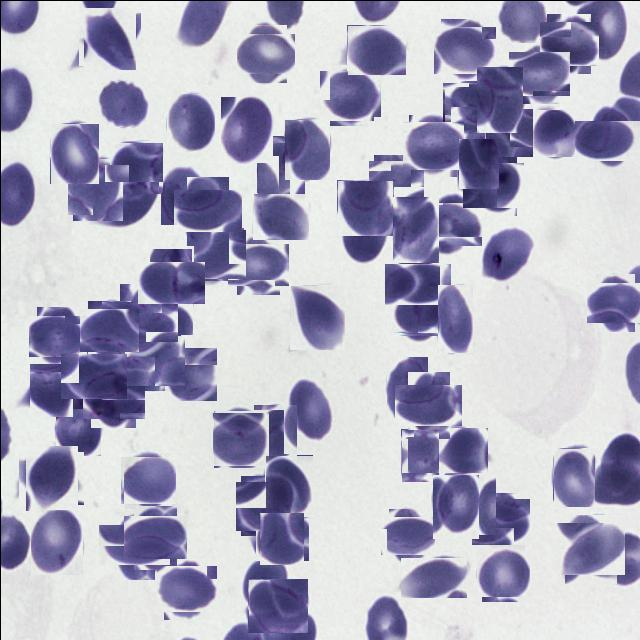red blood cell: (560, 518, 620, 578), (289, 284, 344, 349), (21, 448, 80, 507), (220, 96, 272, 162), (30, 510, 82, 576), (110, 292, 168, 351), (446, 76, 504, 134), (80, 10, 138, 67), (247, 578, 307, 632), (322, 66, 378, 122), (106, 516, 162, 572), (179, 182, 235, 238), (126, 332, 182, 388), (65, 347, 121, 403), (69, 161, 125, 217), (142, 254, 198, 310), (336, 179, 392, 235), (475, 544, 529, 602), (392, 196, 438, 262), (476, 66, 522, 132), (212, 411, 267, 466), (436, 22, 492, 76), (256, 135, 304, 198), (404, 118, 460, 172), (49, 122, 98, 183), (389, 256, 444, 310), (92, 181, 158, 226), (346, 24, 405, 74), (432, 474, 478, 538), (238, 478, 292, 532), (580, 113, 634, 167), (401, 378, 455, 432), (86, 368, 140, 422), (466, 158, 520, 212), (288, 380, 334, 443), (159, 562, 213, 615), (128, 511, 182, 564), (163, 347, 216, 400), (512, 46, 565, 99), (283, 118, 329, 179), (264, 454, 312, 512), (424, 197, 476, 250), (160, 167, 208, 224), (166, 93, 214, 150), (386, 356, 427, 422), (232, 238, 284, 290), (542, 17, 594, 69), (122, 454, 174, 506), (474, 495, 526, 547), (110, 140, 162, 192), (82, 304, 134, 356), (400, 557, 466, 597), (252, 192, 308, 239), (193, 228, 244, 279), (32, 310, 82, 360), (370, 156, 420, 206), (552, 447, 594, 506), (55, 400, 100, 455), (252, 403, 296, 459), (394, 290, 444, 339), (241, 28, 290, 78), (26, 366, 76, 414), (96, 80, 148, 126), (437, 284, 472, 352), (257, 514, 306, 562), (400, 428, 444, 481), (242, 559, 286, 612), (590, 278, 638, 326), (484, 108, 532, 156), (458, 474, 495, 534), (438, 427, 487, 472), (148, 284, 192, 334), (343, 207, 384, 260), (384, 512, 430, 559), (531, 109, 577, 156), (458, 138, 498, 188)
ring: (482, 226, 532, 280)
